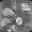people: (1, 17, 13, 27), (2, 8, 14, 17), (15, 16, 23, 25)
